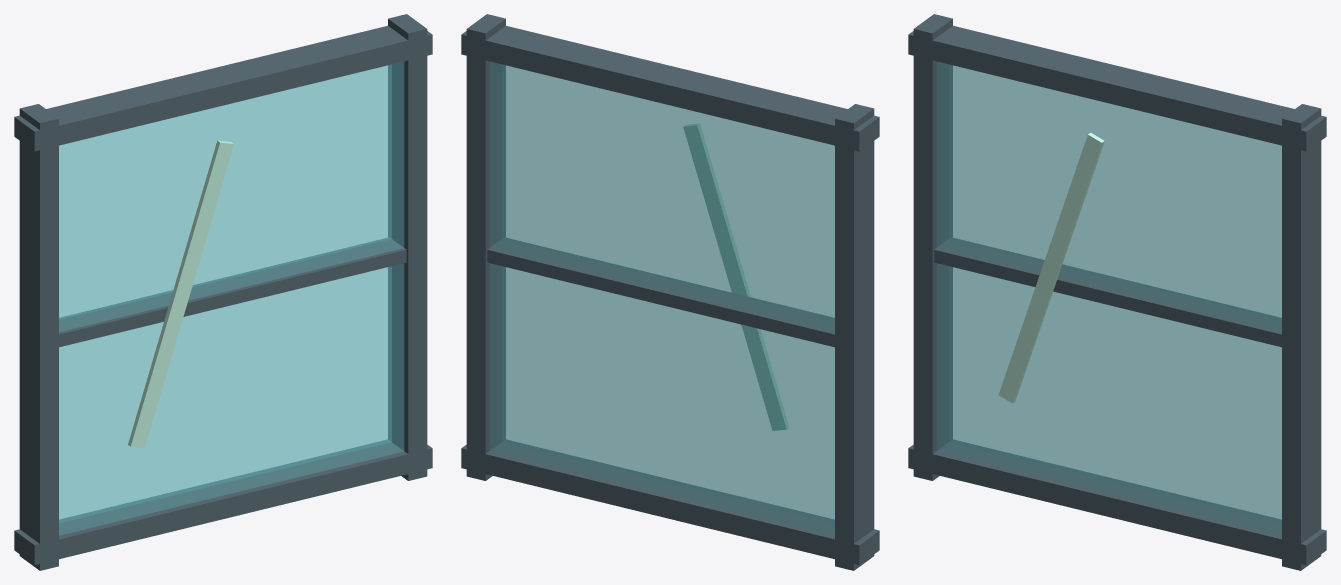
File: bp_glassblock.glb
3 views of the same model, side by side, from view 1: azimuth 30°, elevation 25°; view 2: azimuth 150°, elevation 25°; view 3: azimuth 330°, elevation 25° (orthographic).
Visible parts, largest first — view 1: glass_panel, glass_frame, glass_frame.001, glass_frame.003, glass_frame.002, glass_crossbar, glass_glint; view 2: glass_panel, glass_frame, glass_frame.001, glass_frame.003, glass_frame.002, glass_crossbar, glass_glint; view 3: glass_panel, glass_frame.001, glass_frame, glass_frame.003, glass_frame.002, glass_crossbar, glass_glint.
Boxes of the visible parts, x1,y1,x2,y2 form: glass_panel: [59, 62, 403, 535]; glass_frame: [19, 104, 58, 570]; glass_frame.001: [388, 14, 427, 480]; glass_frame.003: [14, 25, 432, 151]; glass_frame.002: [14, 439, 432, 564]; glass_crossbar: [59, 237, 406, 347]; glass_glint: [128, 140, 233, 448]; glass_panel: [490, 62, 834, 535]; glass_frame: [835, 104, 874, 570]; glass_frame.001: [466, 14, 505, 480]; glass_frame.003: [461, 25, 879, 151]; glass_frame.002: [461, 439, 879, 564]; glass_crossbar: [487, 237, 834, 347]; glass_glint: [683, 123, 788, 430]; glass_panel: [937, 62, 1281, 535]; glass_frame.001: [1282, 104, 1321, 570]; glass_frame: [913, 14, 952, 480]; glass_frame.003: [908, 25, 1326, 151]; glass_frame.002: [908, 439, 1326, 564]; glass_crossbar: [934, 237, 1281, 347]; glass_glint: [998, 132, 1104, 403].
Bounding box in the file's own units: 1.47 × 1.58 × 0.149.
